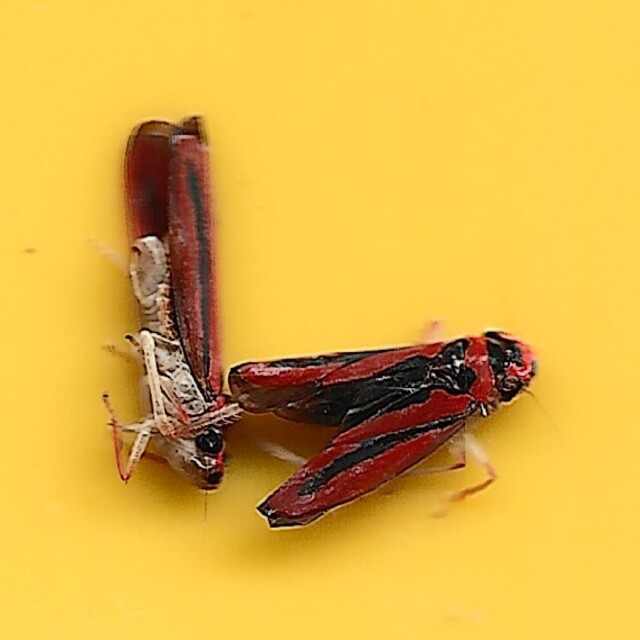Hemiptera: (224, 324, 543, 528), (97, 112, 238, 496)
